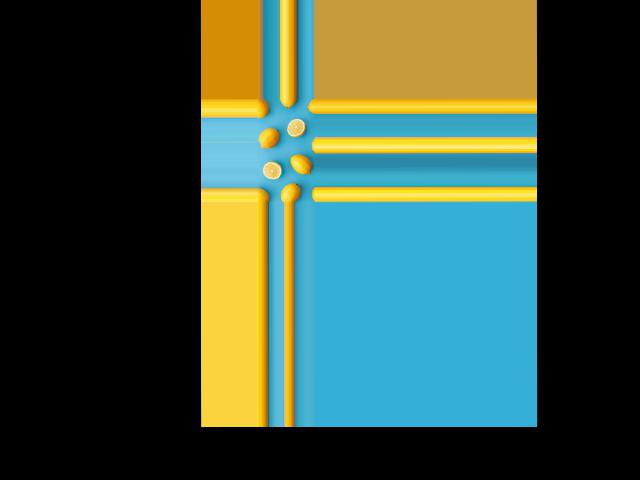lemon: (257, 186, 271, 203)
